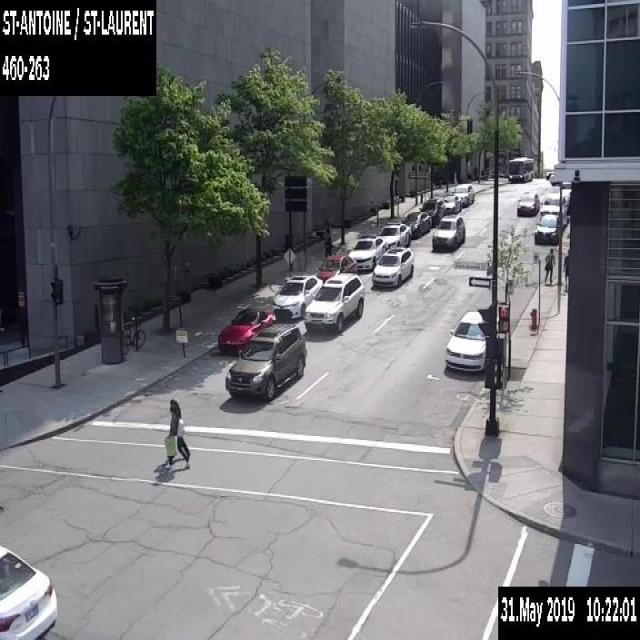bus: (507, 156, 533, 182)
pedestrian: (164, 399, 190, 468), (544, 248, 554, 285), (562, 248, 570, 292)
vehicle: (224, 322, 304, 400), (0, 541, 58, 639), (303, 272, 364, 332), (442, 308, 491, 376), (217, 306, 275, 352), (272, 274, 322, 320), (372, 245, 414, 286), (348, 233, 387, 270), (316, 253, 356, 283), (432, 213, 464, 250), (378, 221, 410, 248), (534, 214, 562, 244), (418, 197, 446, 225), (402, 211, 431, 237), (539, 192, 567, 218), (516, 190, 539, 214), (452, 183, 474, 205), (442, 194, 461, 213), (558, 180, 571, 196)
